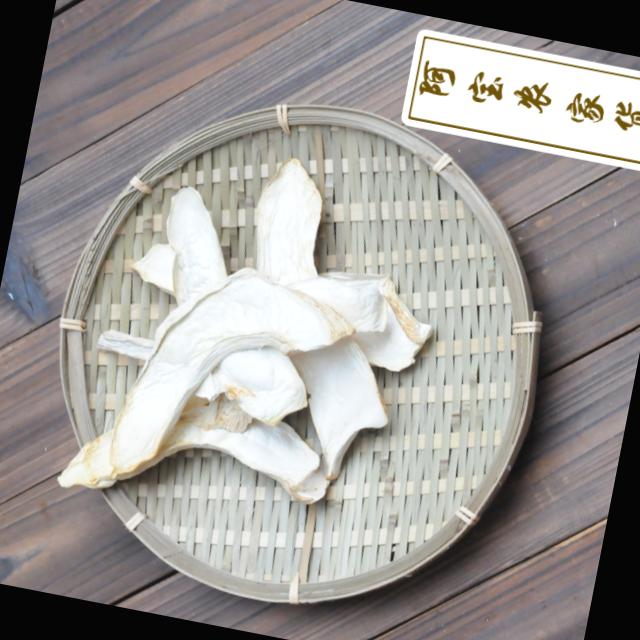Pleurotus eryngii: (54, 125, 454, 550)
